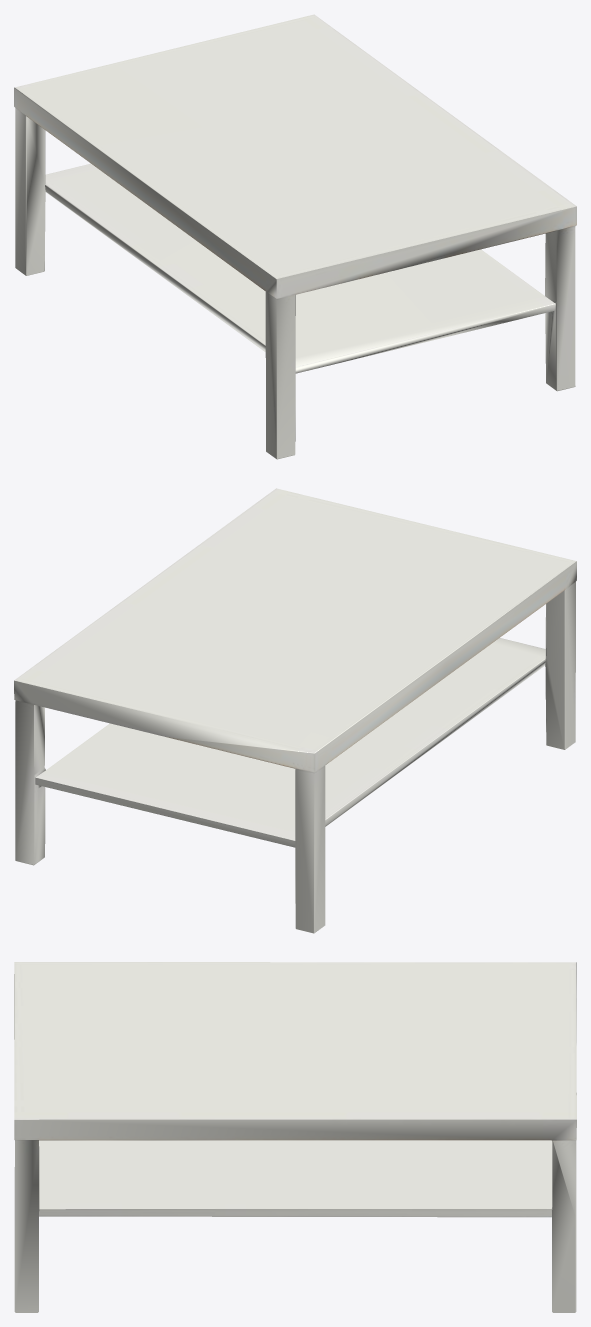
File: 36 - LACK Coffee table - white 118x78 cm.glb
3 views of the same model, one above another, from view 1: azimuth 30°, elevation 25°; view 2: azimuth 150°, elevation 25°; view 3: azimuth 270°, elevation 25° (orthographic). The views are drawn at different scales.
Parts seen in each view (by area): view 1: ProcessedMeshNode; view 2: ProcessedMeshNode; view 3: ProcessedMeshNode.
Boxes of the visible parts, x1,y1,x2,y2 form: ProcessedMeshNode: (14,14,576,459); ProcessedMeshNode: (14,488,576,933); ProcessedMeshNode: (14,962,576,1312).
Size of the model in its own units: 0.7812 by 0.45 by 1.18.
1 material, 1 textured.
